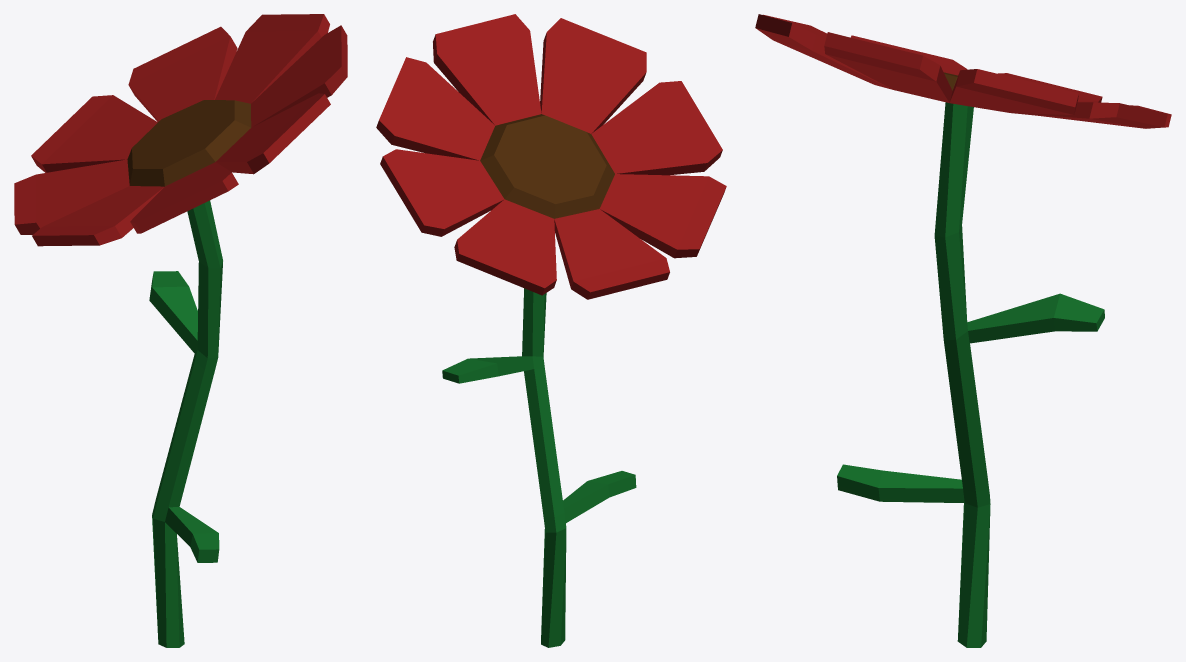
The model's file is flower 1.fbx.
3 views of the same model, side by side, from view 1: azimuth 30°, elevation 25°; view 2: azimuth 150°, elevation 25°; view 3: azimuth 270°, elevation 25° (orthographic). The views are drawn at different scales.
Parts seen in each view (by area): view 1: Flower; view 2: Flower; view 3: Flower.
Boxes of the visible parts, x1,y1,x2,y2 form: Flower: [14, 14, 347, 647]; Flower: [376, 14, 726, 647]; Flower: [755, 14, 1171, 647].
Bounding box in the file's own units: 38.26 × 71.41 × 40.35.
